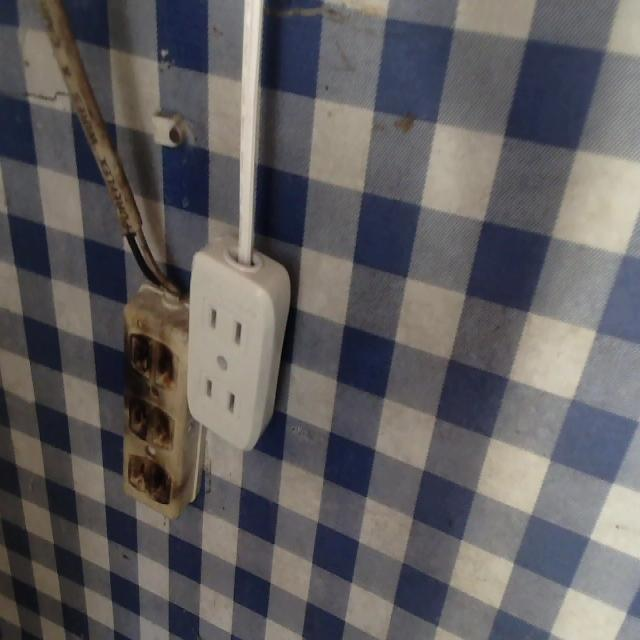-: (126, 324, 180, 395), (126, 397, 180, 451), (127, 451, 176, 508)
